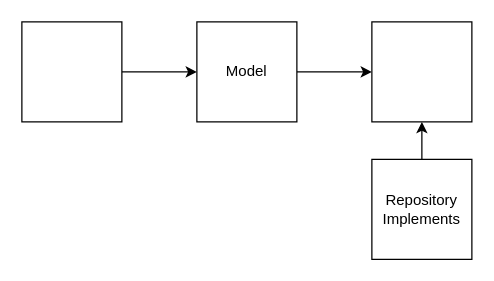
Image size: 494x281. Some labels were removed from this diagram. Each missing label, with the box of its shape:
Controller: (21, 21, 122, 122)
Repository: (371, 21, 472, 122)
